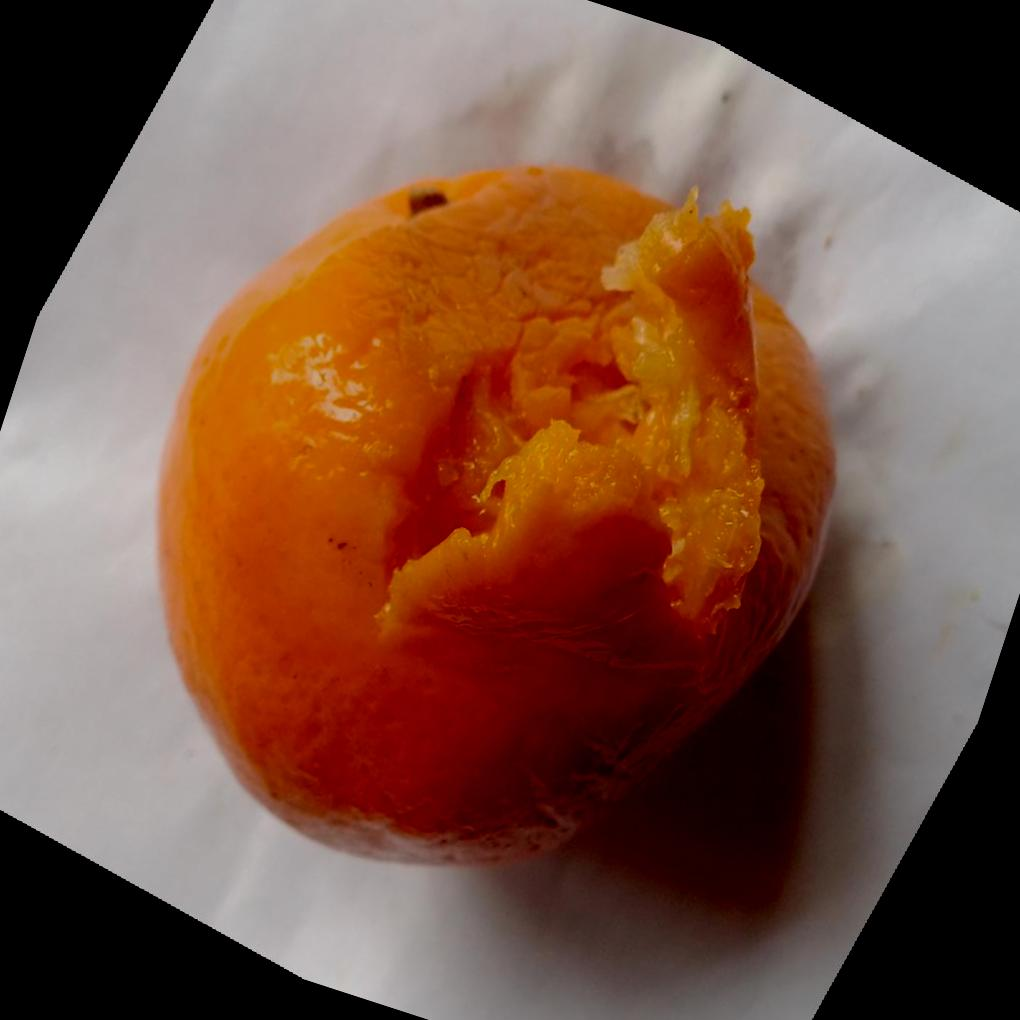FreshOrange: (157, 163, 842, 870)
